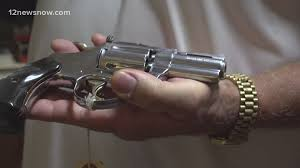gun: (5, 37, 235, 120)
